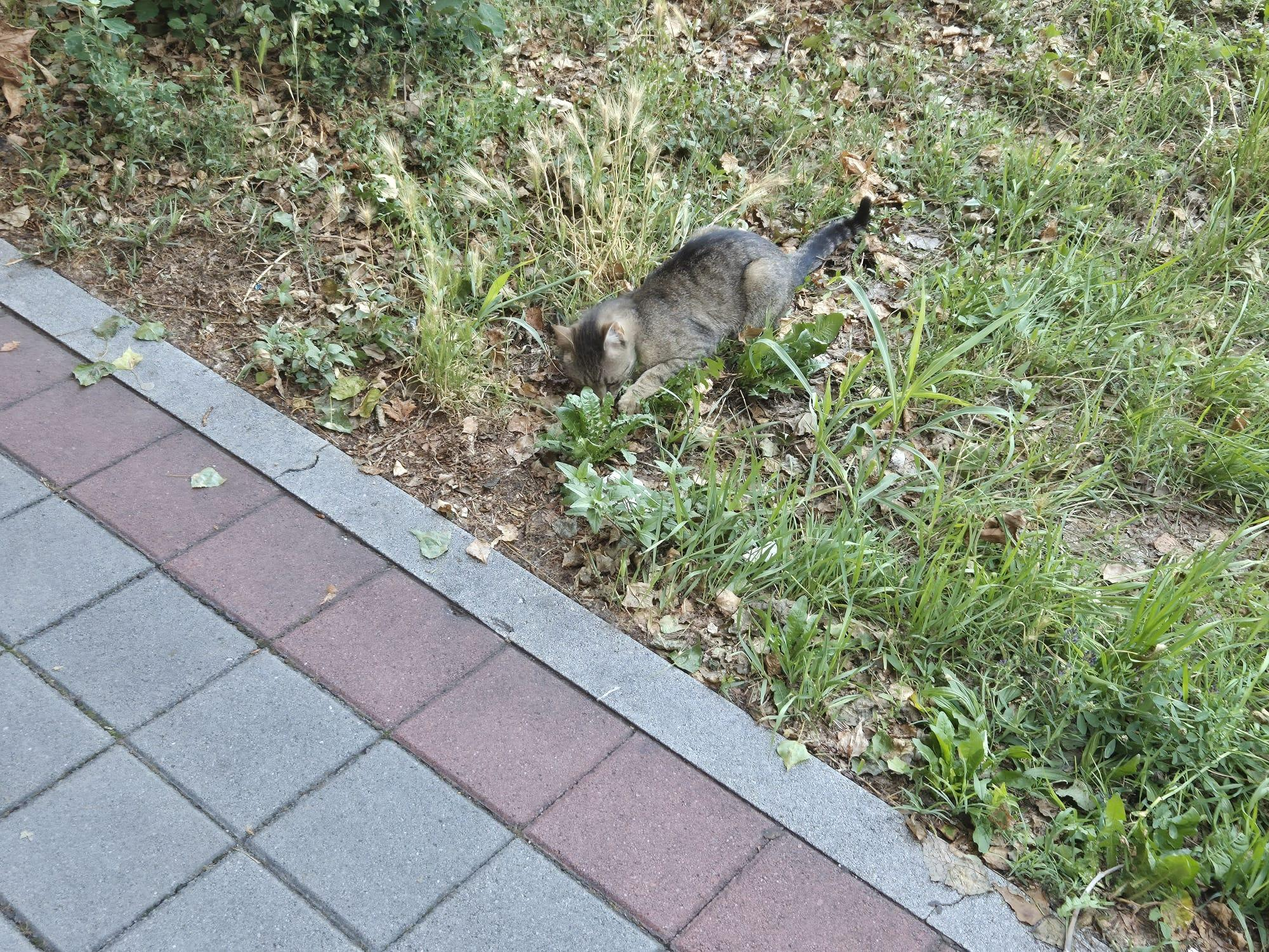macka: (550, 195, 875, 415)
